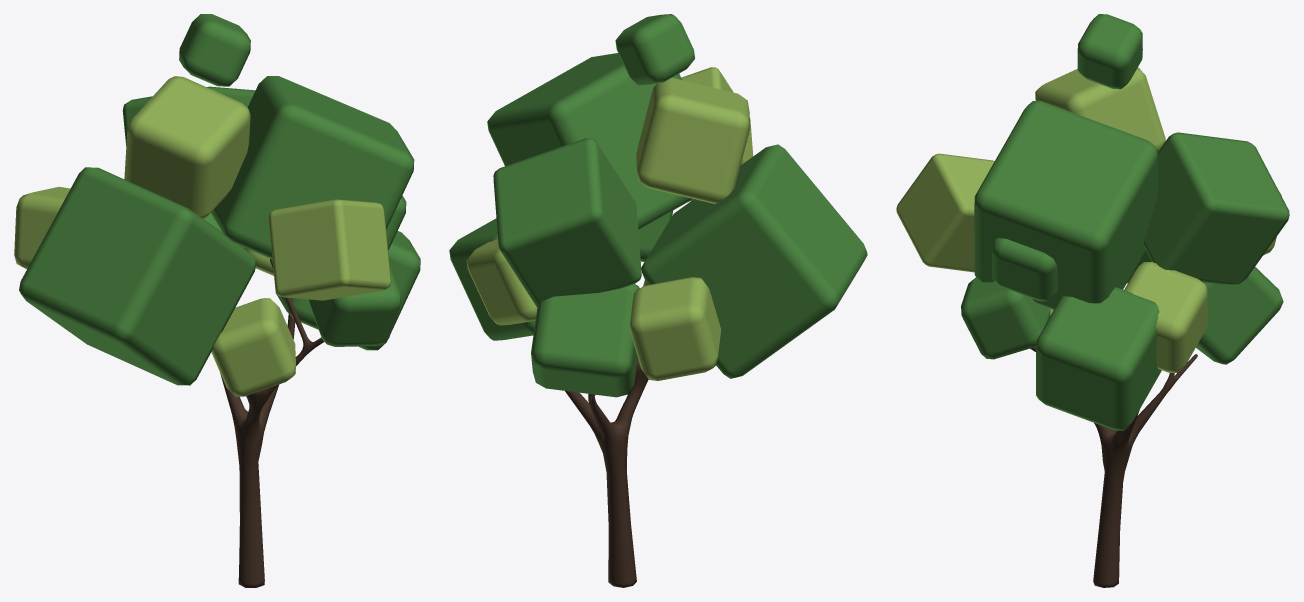
The model's file is Tree.fbx.
The picture shows the model from 3 angles, left to right: view 1: azimuth 30°, elevation 25°; view 2: azimuth 150°, elevation 25°; view 3: azimuth 270°, elevation 25°; orthographic projection. The views are drawn at different scales.
Parts seen in each view (by area): view 1: tree; view 2: tree; view 3: tree.
Boxes of the visible parts, <box> form: tree: <box>14,14,420,587</box>; tree: <box>449,14,867,587</box>; tree: <box>896,14,1289,587</box>.
Bounding box in the file's own units: 2446 × 3472 × 2264.
